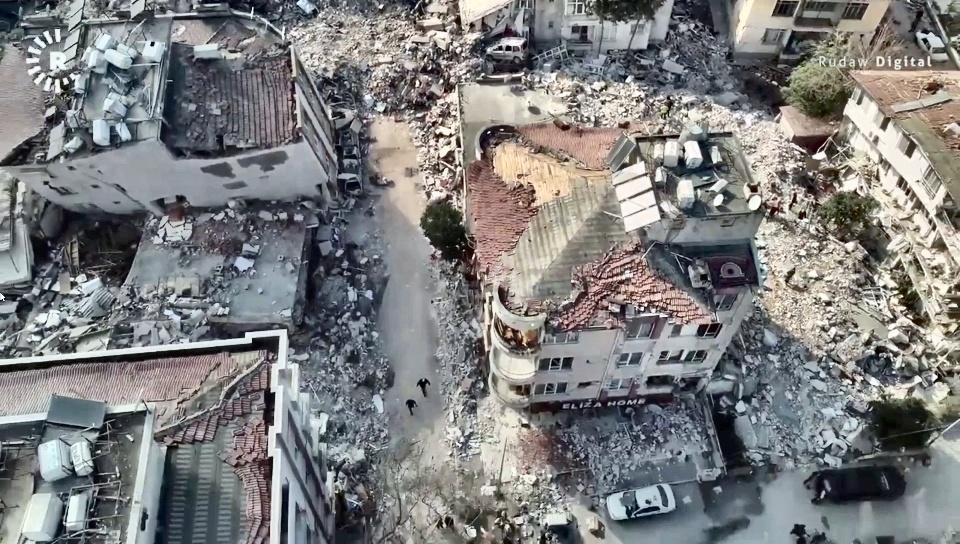kapali: (353, 0, 465, 186)
